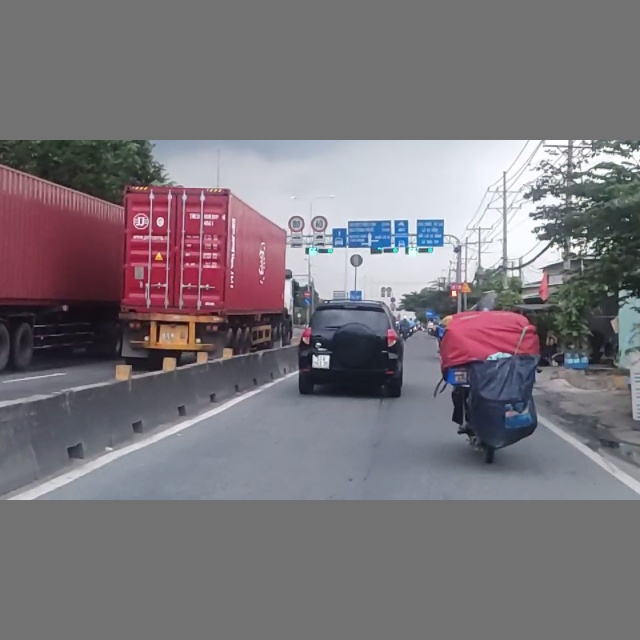P.102: (303, 291, 311, 297)
P.127*60: (311, 216, 328, 232)
P.127*80: (289, 216, 305, 232)
R.302a: (304, 298, 311, 305)
